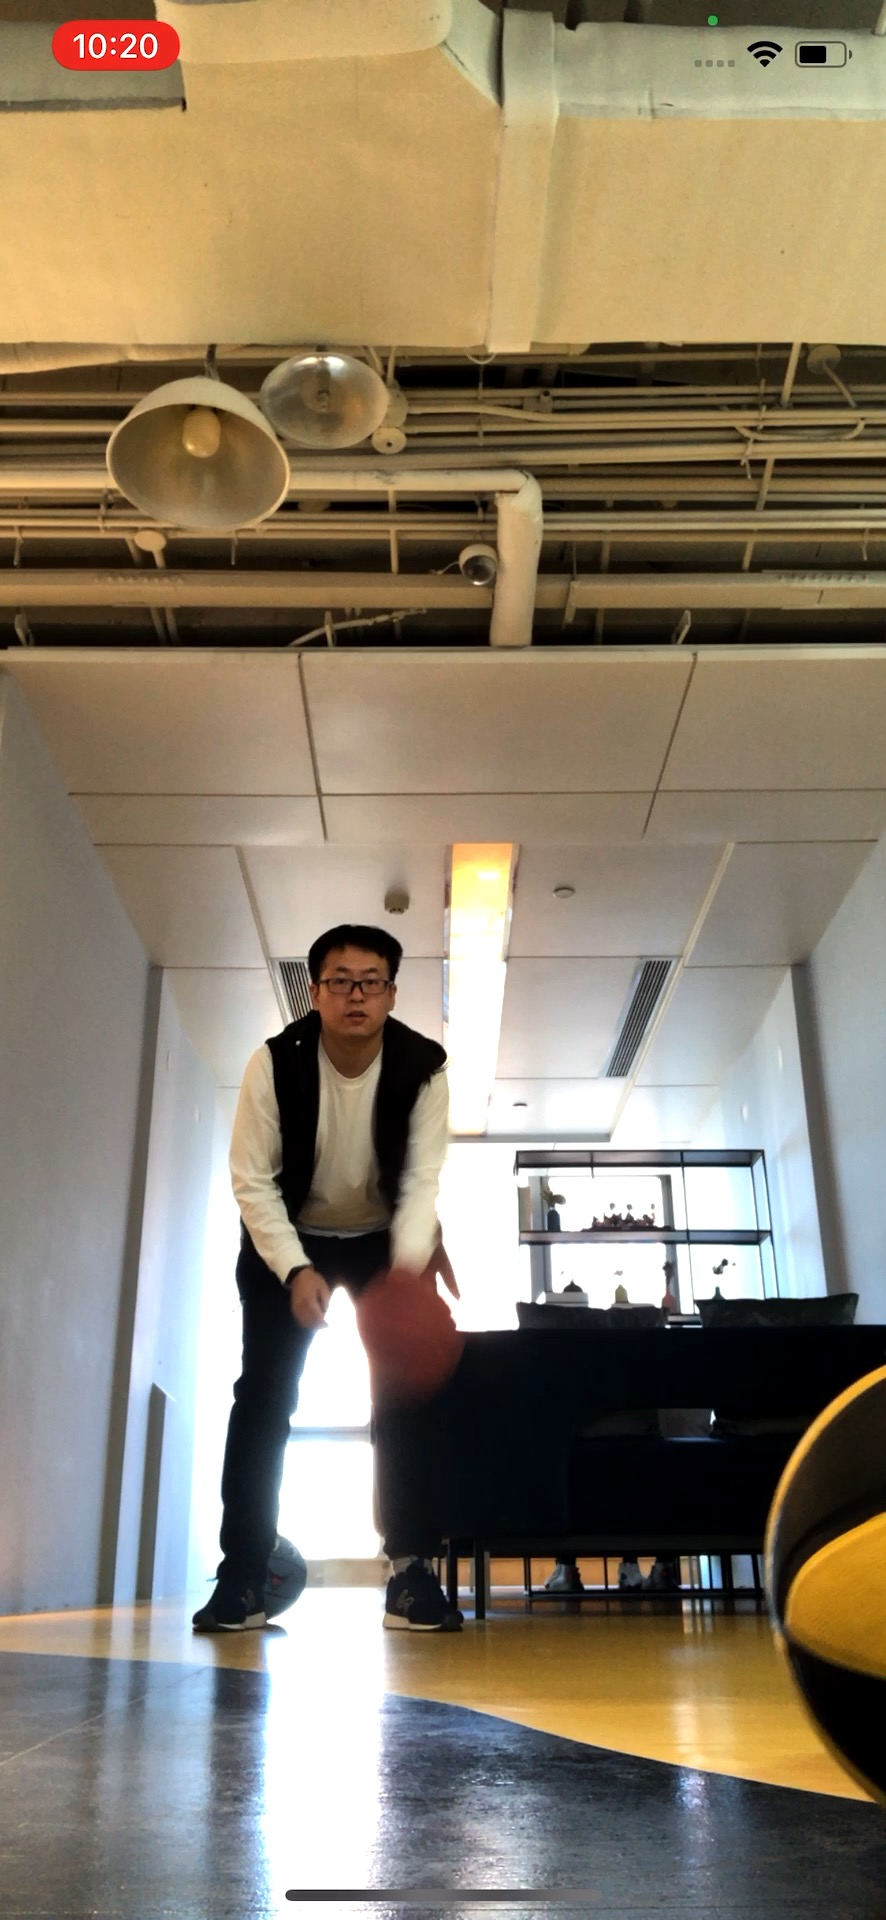ball: (759, 1353, 886, 1809), (359, 1270, 463, 1398)
